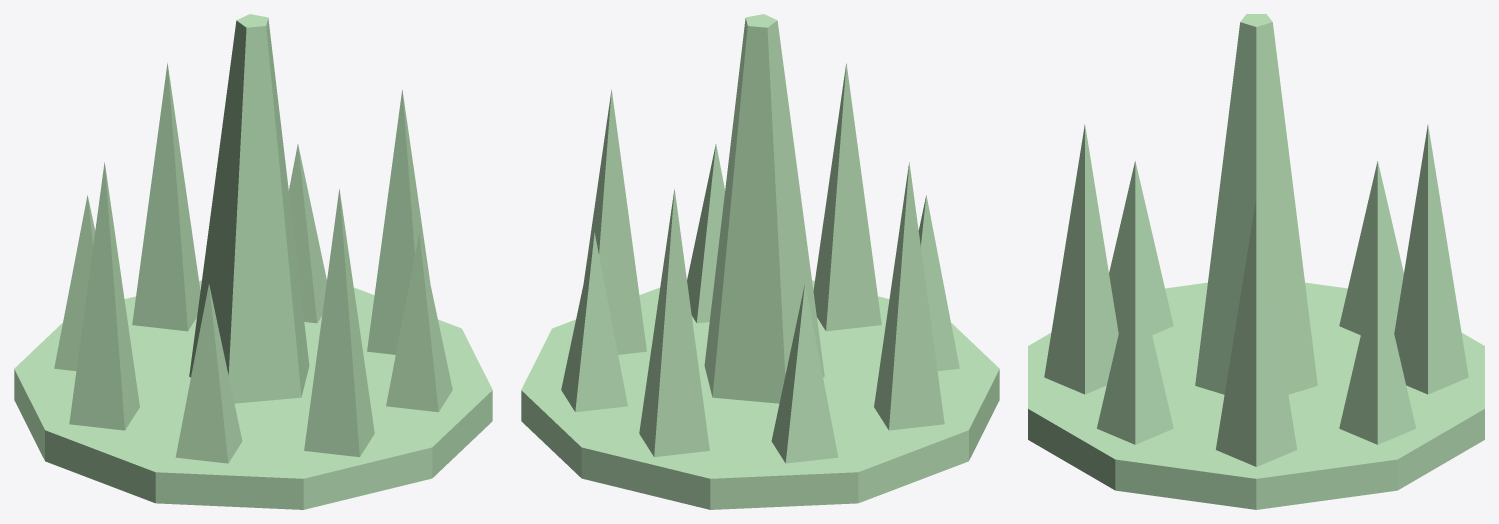
Rendered from splash.glb.
3 renders of one model, left to right at view 1: azimuth 30°, elevation 25°; view 2: azimuth 150°, elevation 25°; view 3: azimuth 270°, elevation 25°, orthographic.
Visible parts, largest first — view 1: Splash; view 2: Splash; view 3: Splash.
Boxes of the visible parts, x1,y1,x2,y2 form: Splash: (14, 14, 492, 509); Splash: (521, 14, 999, 509); Splash: (1028, 14, 1484, 509).
Bounding box in the file's own units: 0.84 × 0.75 × 0.7989.
